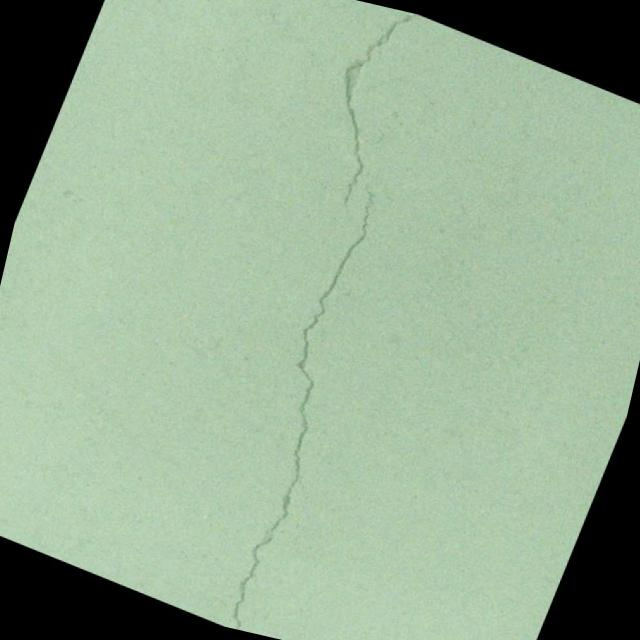crack: (131, 0, 502, 640)
